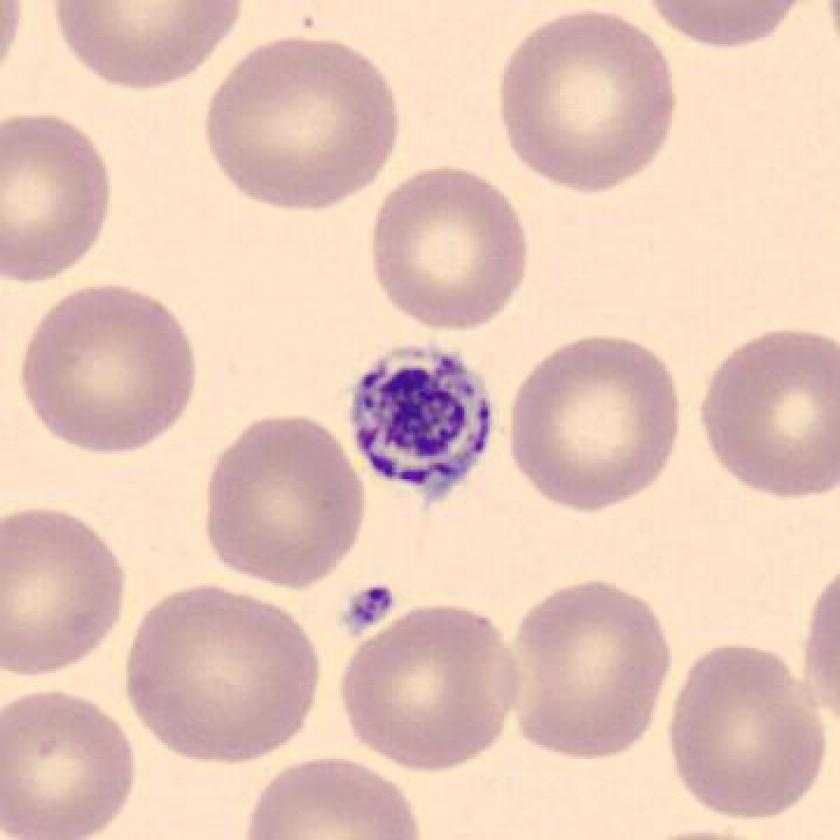platelets: (335, 339, 505, 505), (335, 575, 398, 647)
